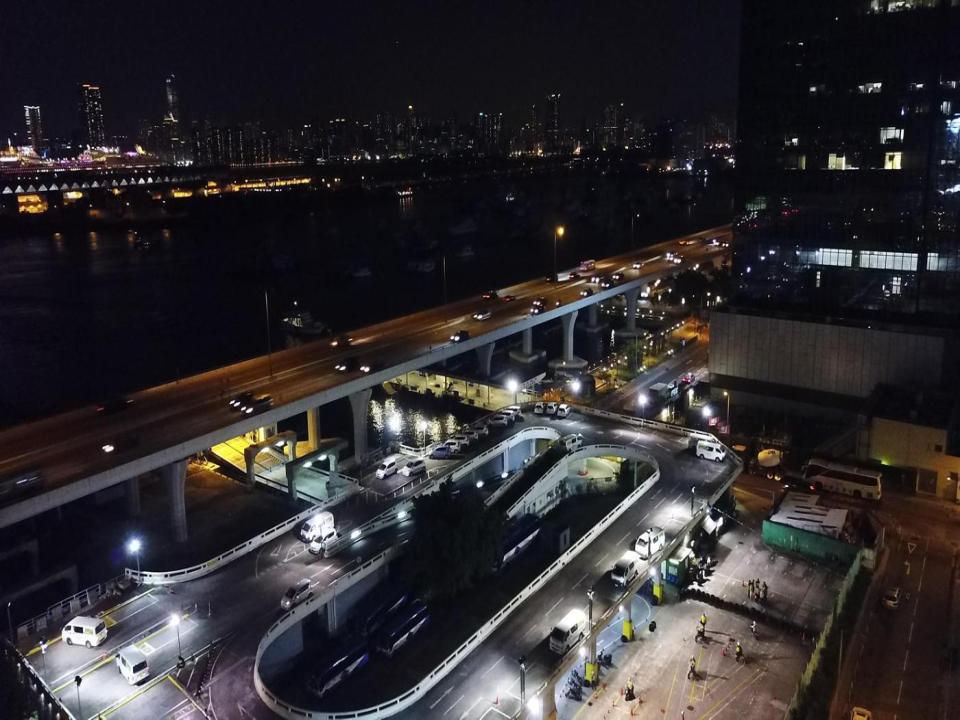bus: (478, 513, 544, 572), (307, 639, 368, 698), (802, 458, 882, 500), (354, 580, 409, 640), (376, 599, 430, 657), (0, 467, 46, 500), (580, 260, 595, 270)
car: (280, 578, 312, 610), (102, 435, 141, 452), (311, 529, 338, 552), (99, 395, 132, 413), (882, 583, 902, 610), (784, 481, 814, 495), (376, 459, 398, 478), (403, 457, 425, 476), (232, 391, 256, 408), (336, 356, 360, 373), (361, 358, 384, 374), (329, 334, 354, 348), (428, 445, 450, 460), (467, 424, 488, 438), (494, 409, 515, 423), (439, 440, 461, 453), (500, 405, 522, 418), (448, 435, 469, 447), (457, 430, 478, 442), (488, 415, 507, 427), (452, 330, 470, 342), (534, 401, 546, 415), (475, 310, 491, 320), (666, 384, 679, 396), (682, 372, 695, 384), (546, 401, 557, 415), (558, 403, 569, 417), (484, 290, 498, 300), (601, 278, 614, 288), (531, 306, 544, 314), (533, 296, 546, 304), (546, 274, 558, 282), (581, 288, 593, 296), (612, 272, 625, 279), (632, 261, 645, 268), (569, 271, 580, 279), (592, 275, 603, 283), (503, 295, 514, 302), (674, 256, 684, 263), (667, 253, 677, 260), (666, 250, 675, 257), (712, 239, 720, 245), (679, 239, 686, 245), (723, 240, 729, 247), (710, 238, 718, 243), (698, 238, 706, 242)
truck: (730, 444, 787, 480), (623, 400, 649, 419), (648, 382, 668, 403)
van: (549, 608, 586, 653), (60, 615, 106, 646), (117, 646, 148, 687), (610, 550, 639, 588), (635, 526, 665, 560), (300, 512, 334, 541), (242, 394, 273, 416), (696, 442, 726, 462), (688, 433, 718, 453), (560, 434, 582, 452)
